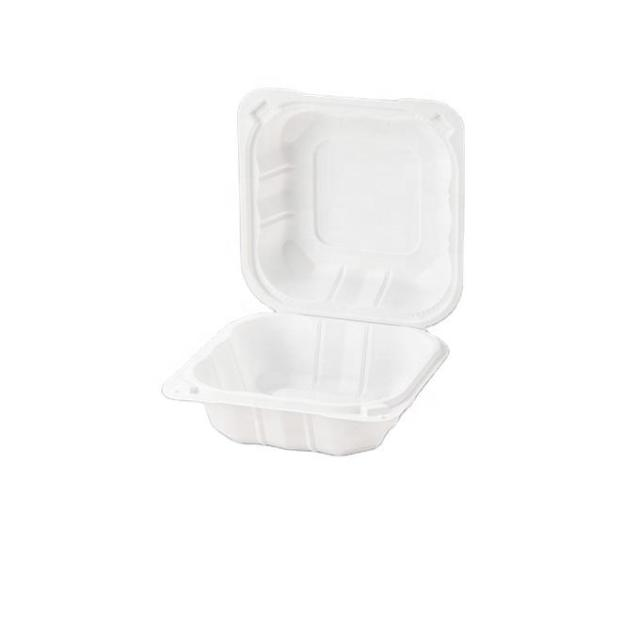styrofoam: (160, 84, 466, 457)
